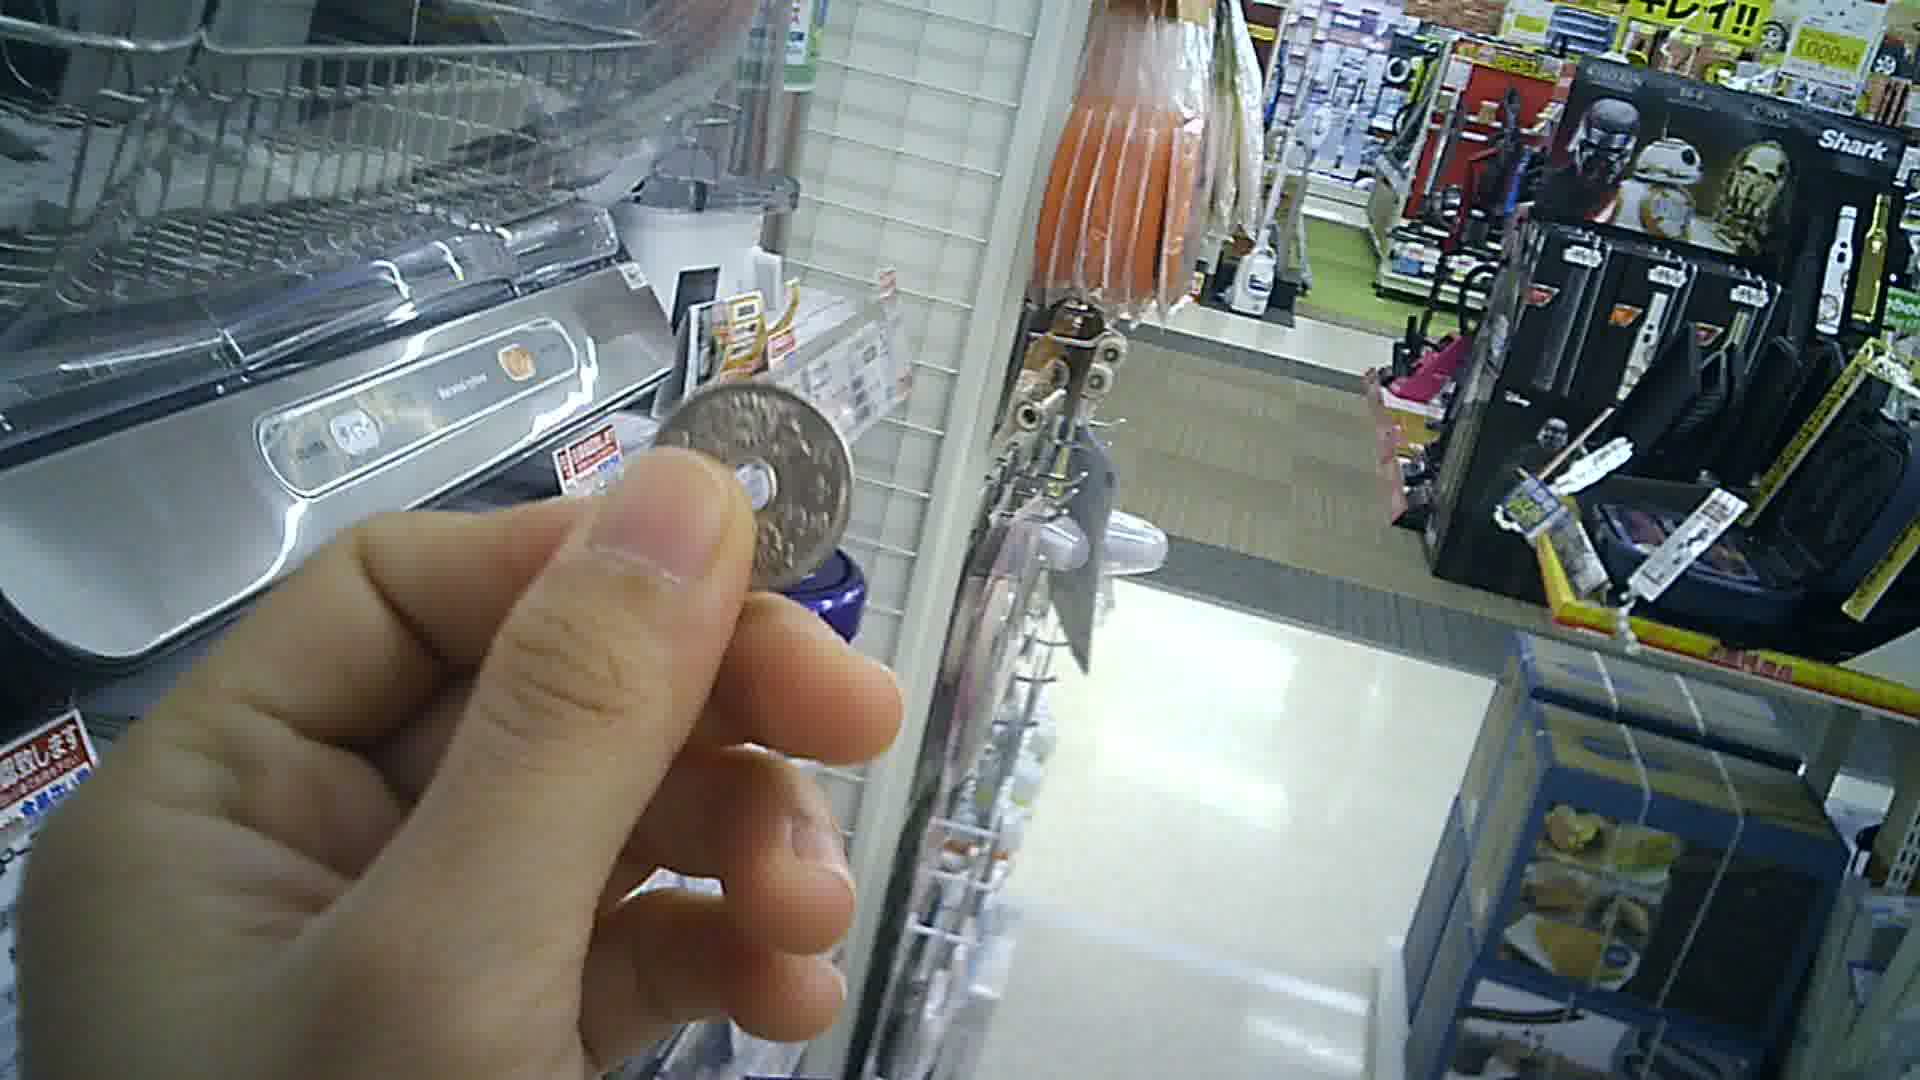50 Yen: (634, 382, 860, 611)
